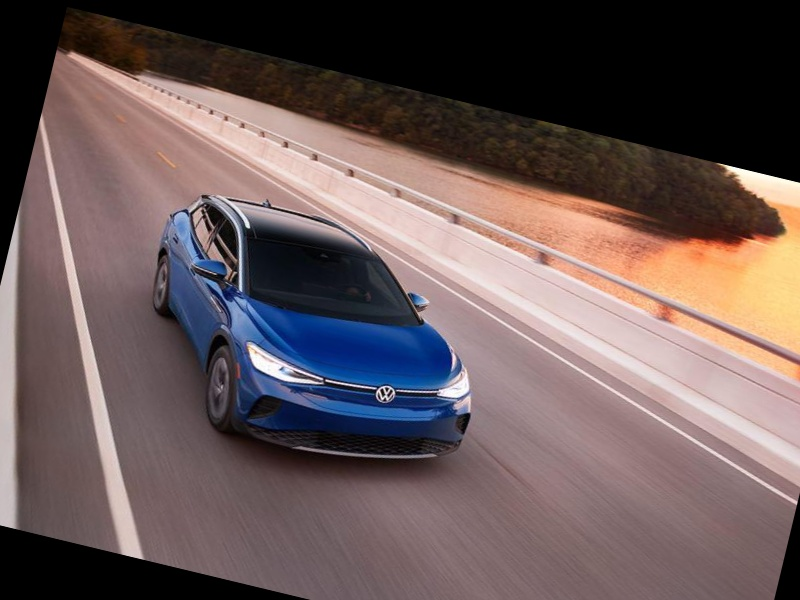car: (58, 142, 571, 533)
